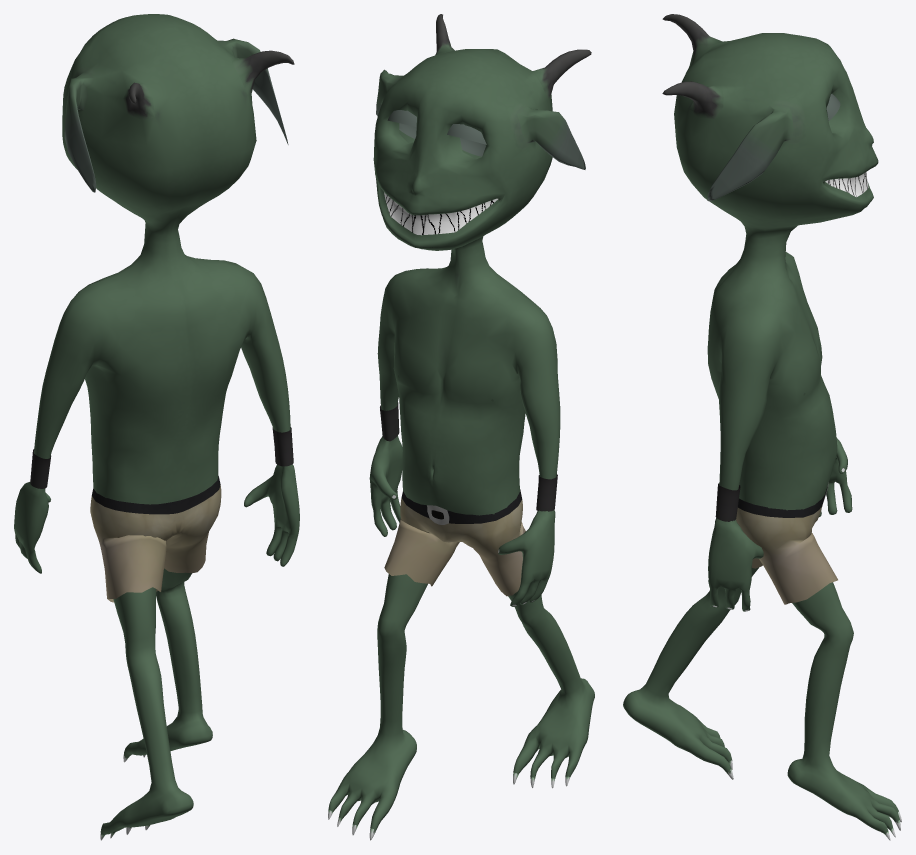
Rendered from lwjglcharactergoblin11_000023.obj.
The picture shows the model from 3 angles, left to right: view 1: azimuth 30°, elevation 25°; view 2: azimuth 150°, elevation 25°; view 3: azimuth 270°, elevation 25°; orthographic projection. The views are drawn at different scales.
Parts seen in each view (by area): view 1: Cube.002; view 2: Cube.002; view 3: Cube.002.
Part boxes in pixels (left/top/right/bottom): Cube.002: left=14, top=14, right=299, bottom=840; Cube.002: left=328, top=14, right=594, bottom=840; Cube.002: left=623, top=14, right=901, bottom=840.
Size of the model in its own units: 1.19 by 3.95 by 1.3.
